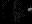person: (25, 7, 31, 13)
